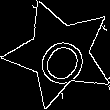O_NE: (27, 21, 92, 87)
